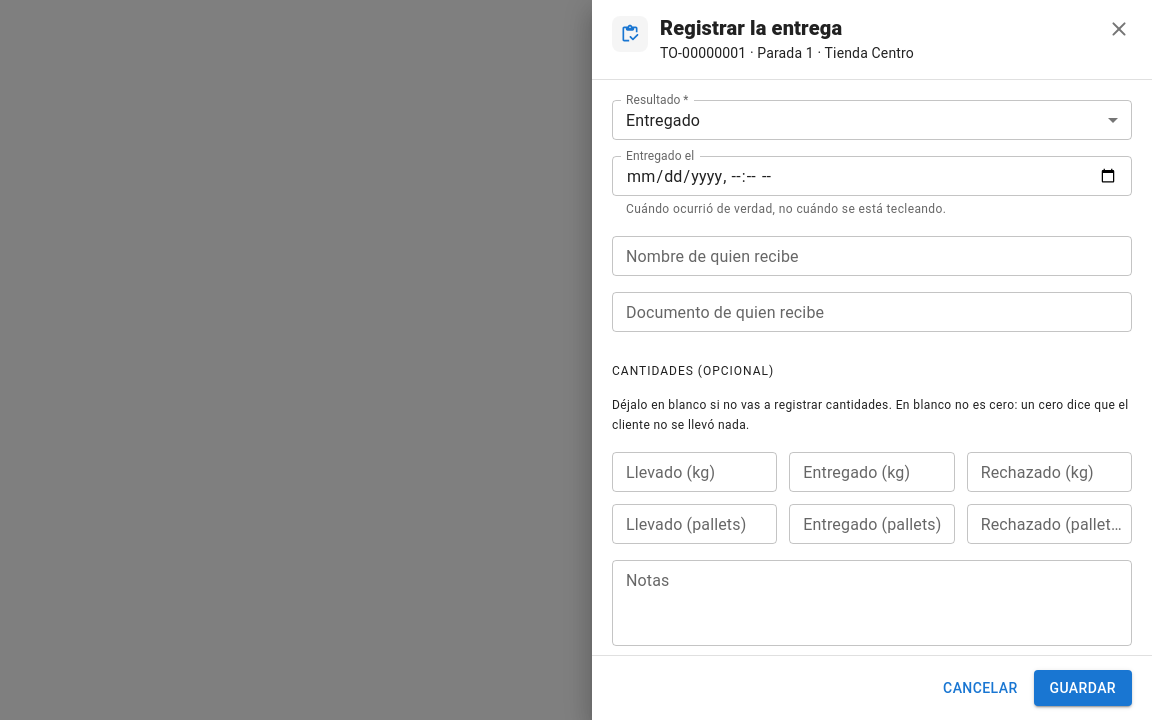
Test: el cajón de entrega › avisa cuando entregado más rechazado supera lo llevado
Type "100" into the number field labelled "Llevado (kg)" at point(695, 472), box [612, 452, 777, 492]
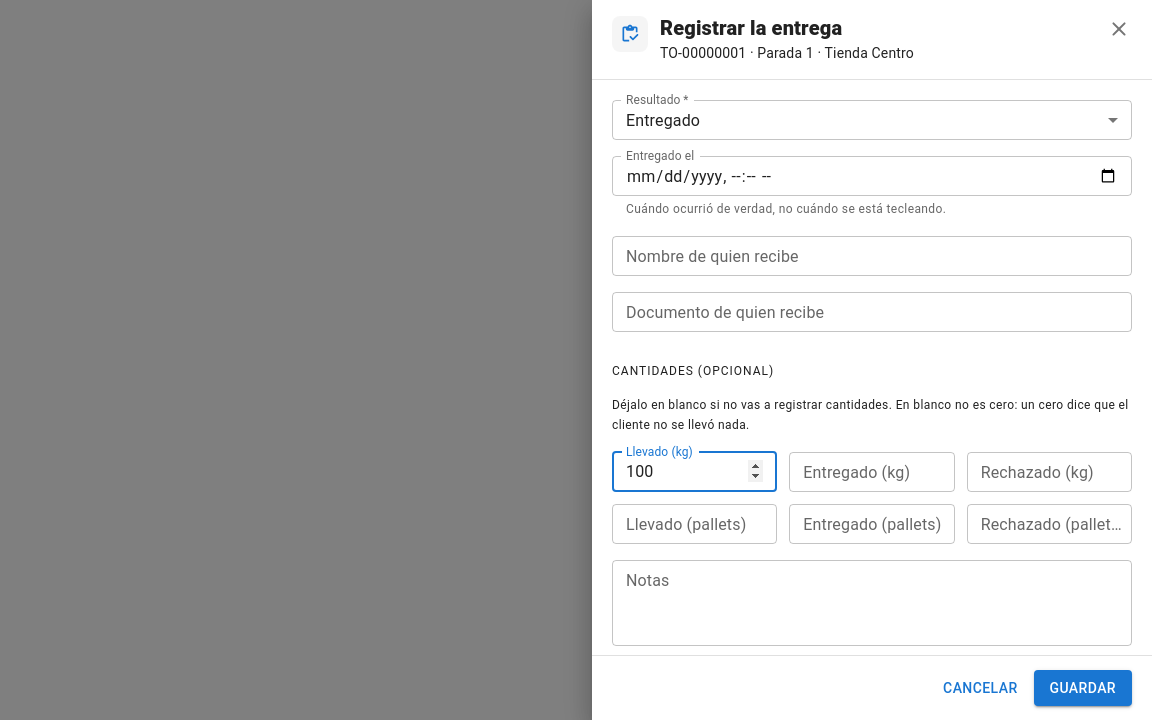
Type "70" into the number field labelled "Entregado (kg)" at point(872, 472), box [789, 452, 955, 492]
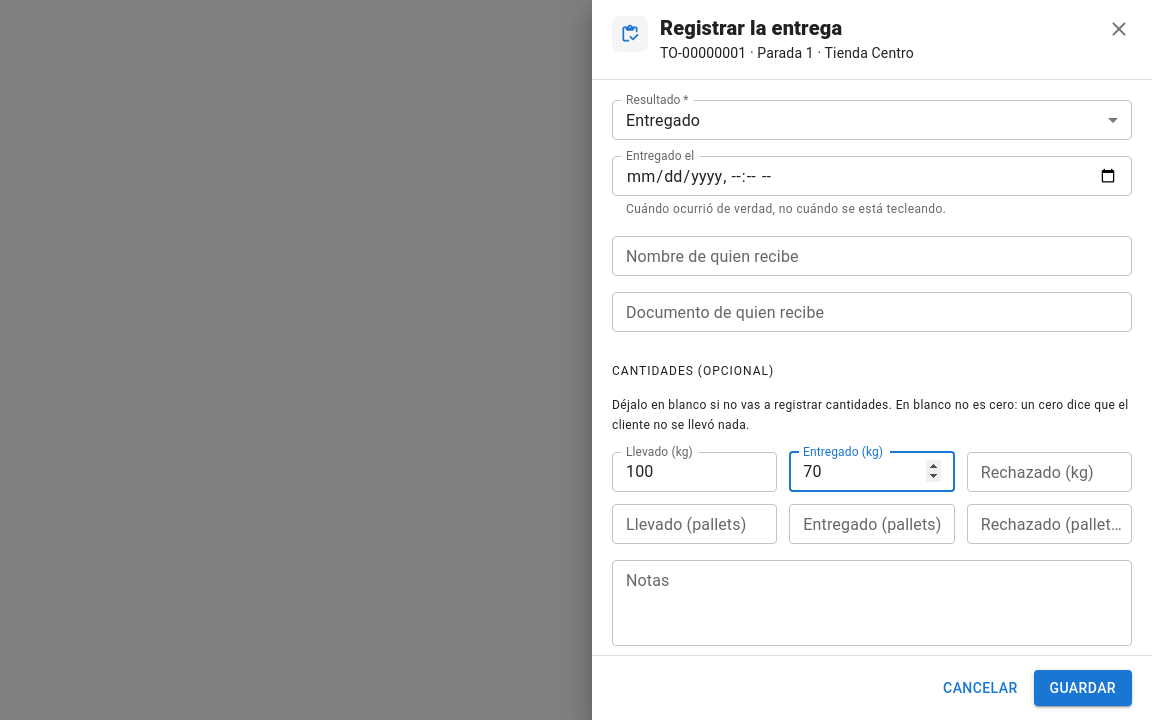
Type "40" into the number field labelled "Rechazado (kg)" at point(1049, 472), box [967, 452, 1132, 492]
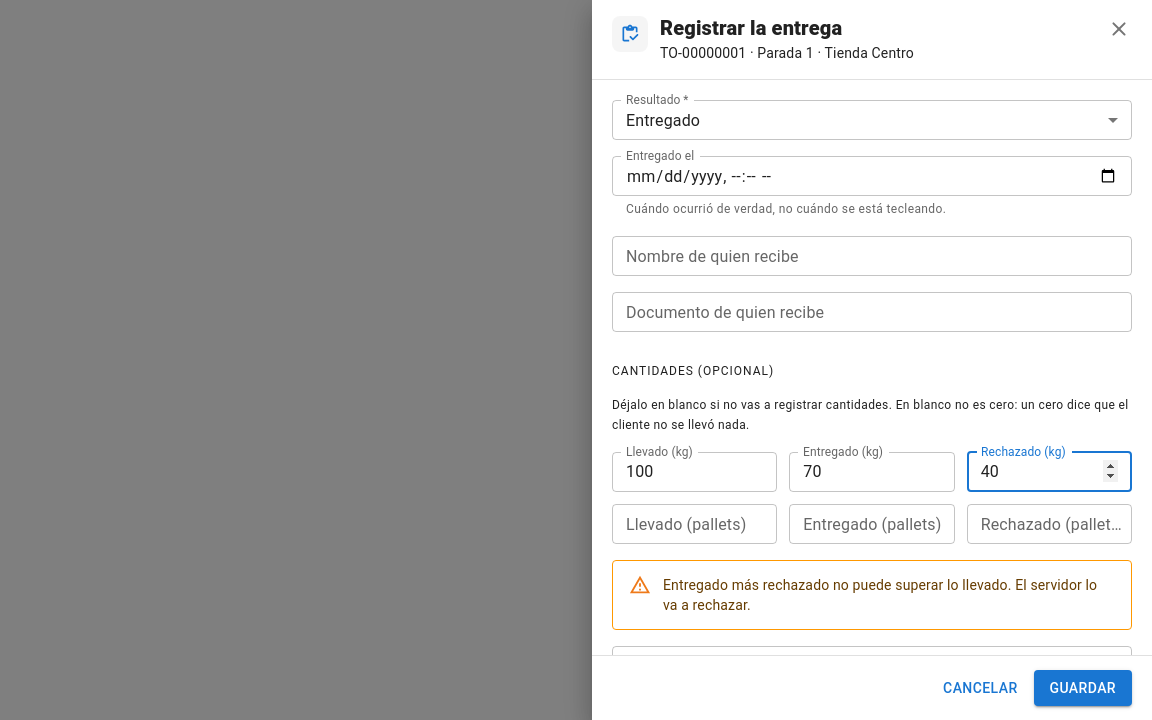
Result: the text "no puede superar lo llevado" is shown at [663, 577, 1097, 613]
